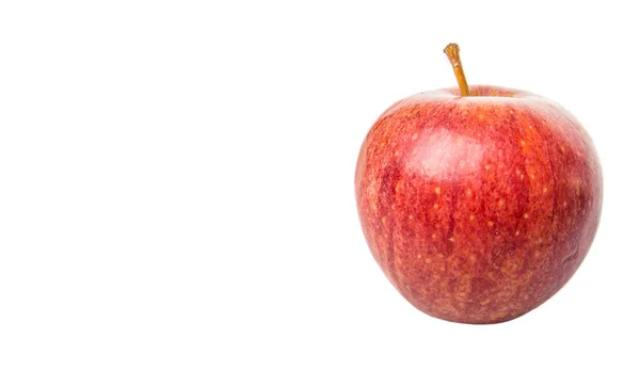Apples: (353, 82, 603, 324)
